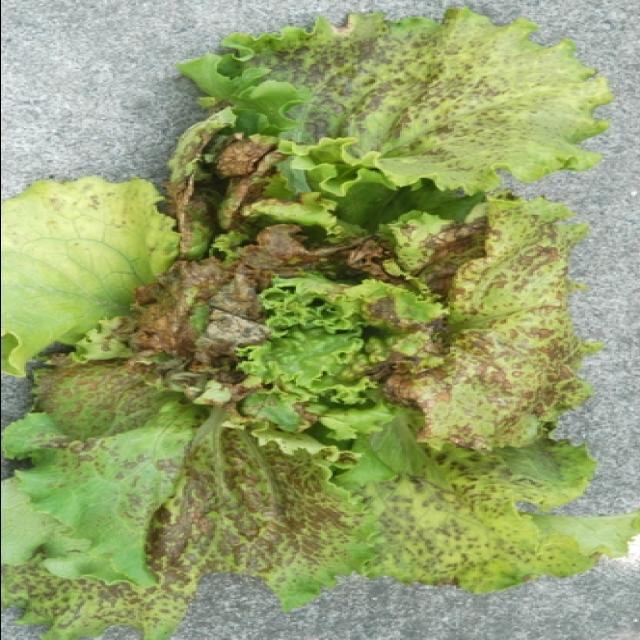Lettuce: (0, 1, 612, 640)
